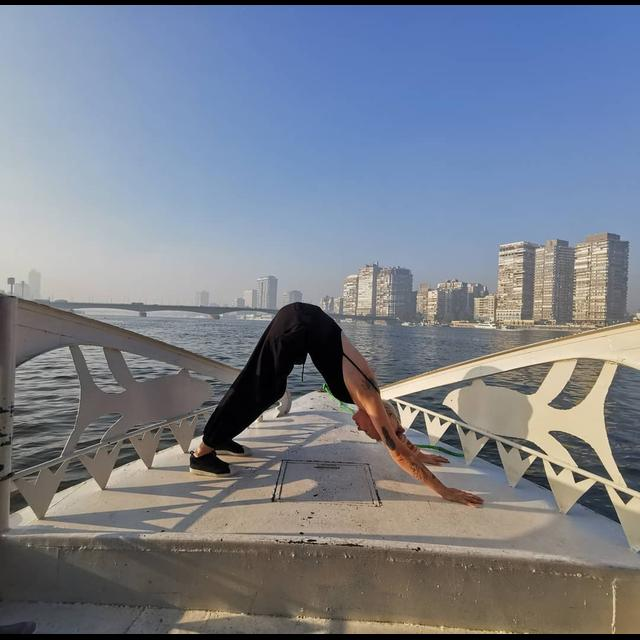Downward-Facing_Dog: (185, 296, 491, 512)
